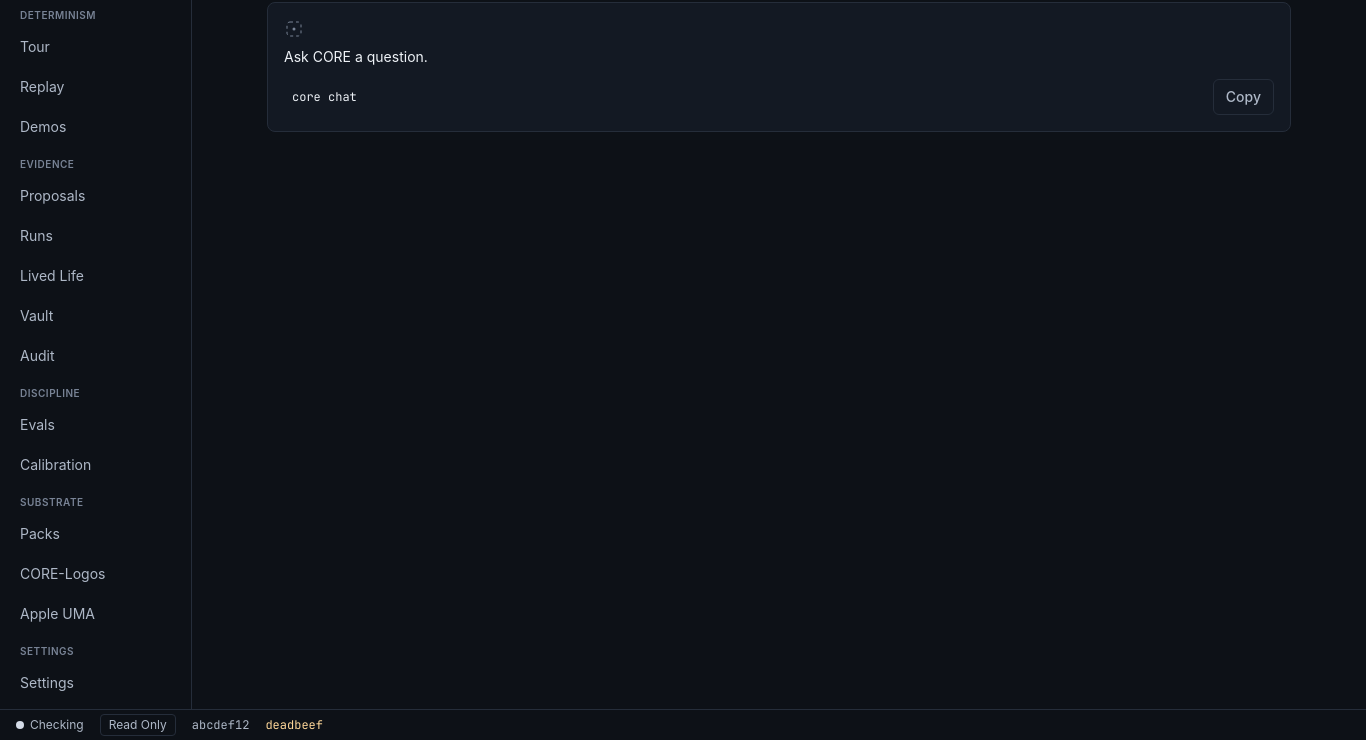
Test: Shell › revision_warning=true makes checkpoint_revision show warning attr, clicking expands note
(page scrolled)
// Click to expand note
Click the button with test id "checkpoint-revision" at (294, 725), box [265,717,323,733]
(page scrolled)
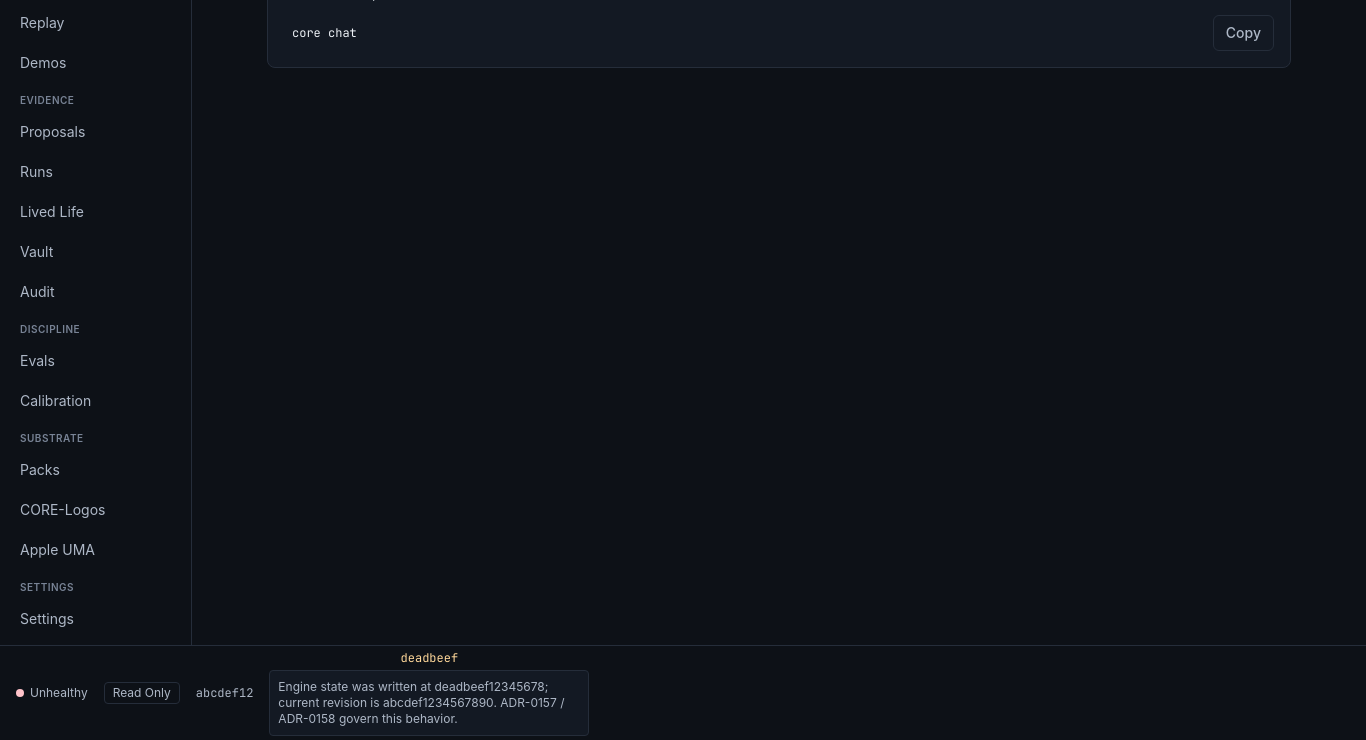
expect the text with test id "revision-note" is shown: met, box [269,670,589,736]
expect the text with test id "revision-note" shows "ADR-0157 / ADR-0158": met, box [278,695,564,726]
